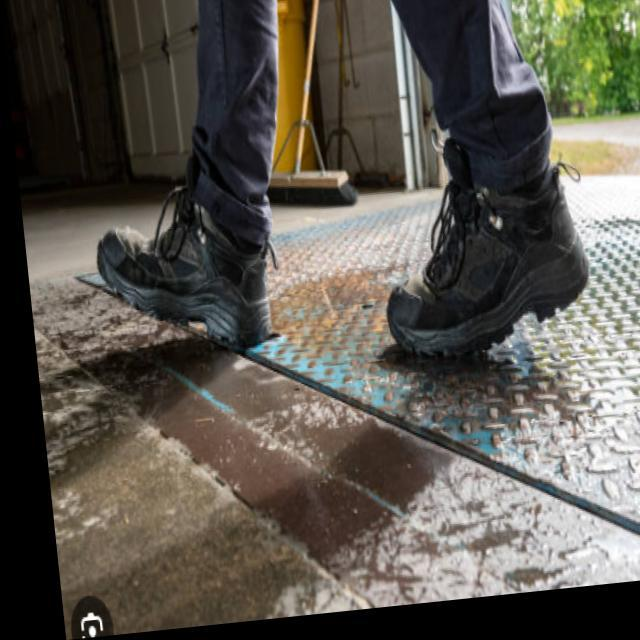boots: (80, 96, 601, 403)
